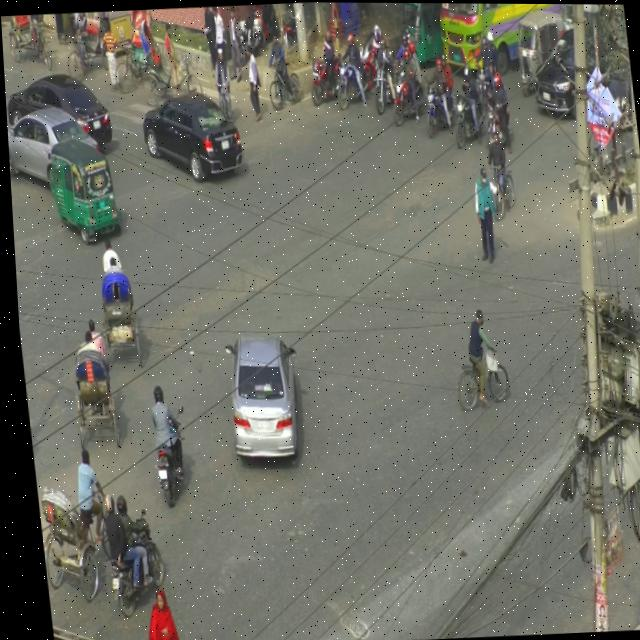cng: (40, 139, 113, 237)
rikshaw: (33, 471, 113, 591), (133, 8, 206, 121), (88, 234, 142, 368), (56, 325, 115, 441)
